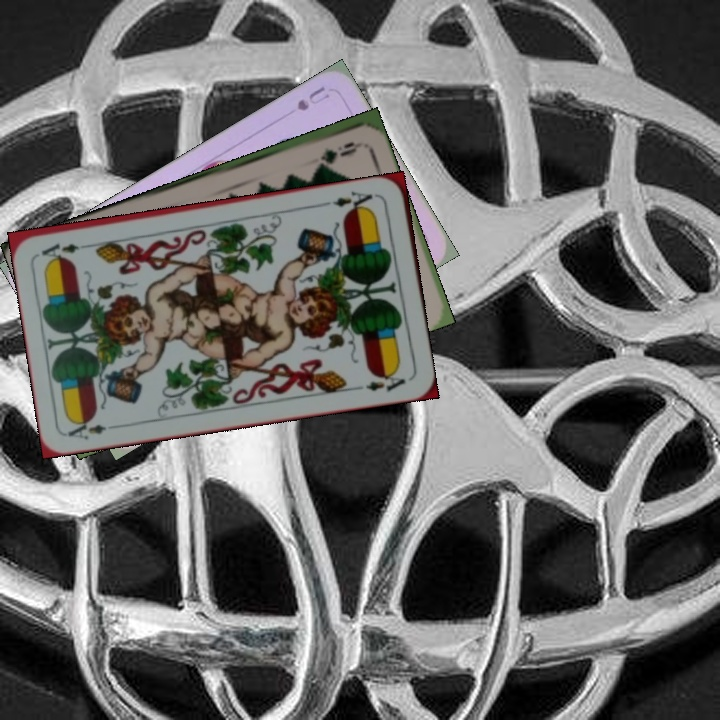EA: (322, 187, 381, 215), (64, 415, 123, 443)
G9: (316, 137, 362, 164)
SU: (293, 82, 332, 114)
